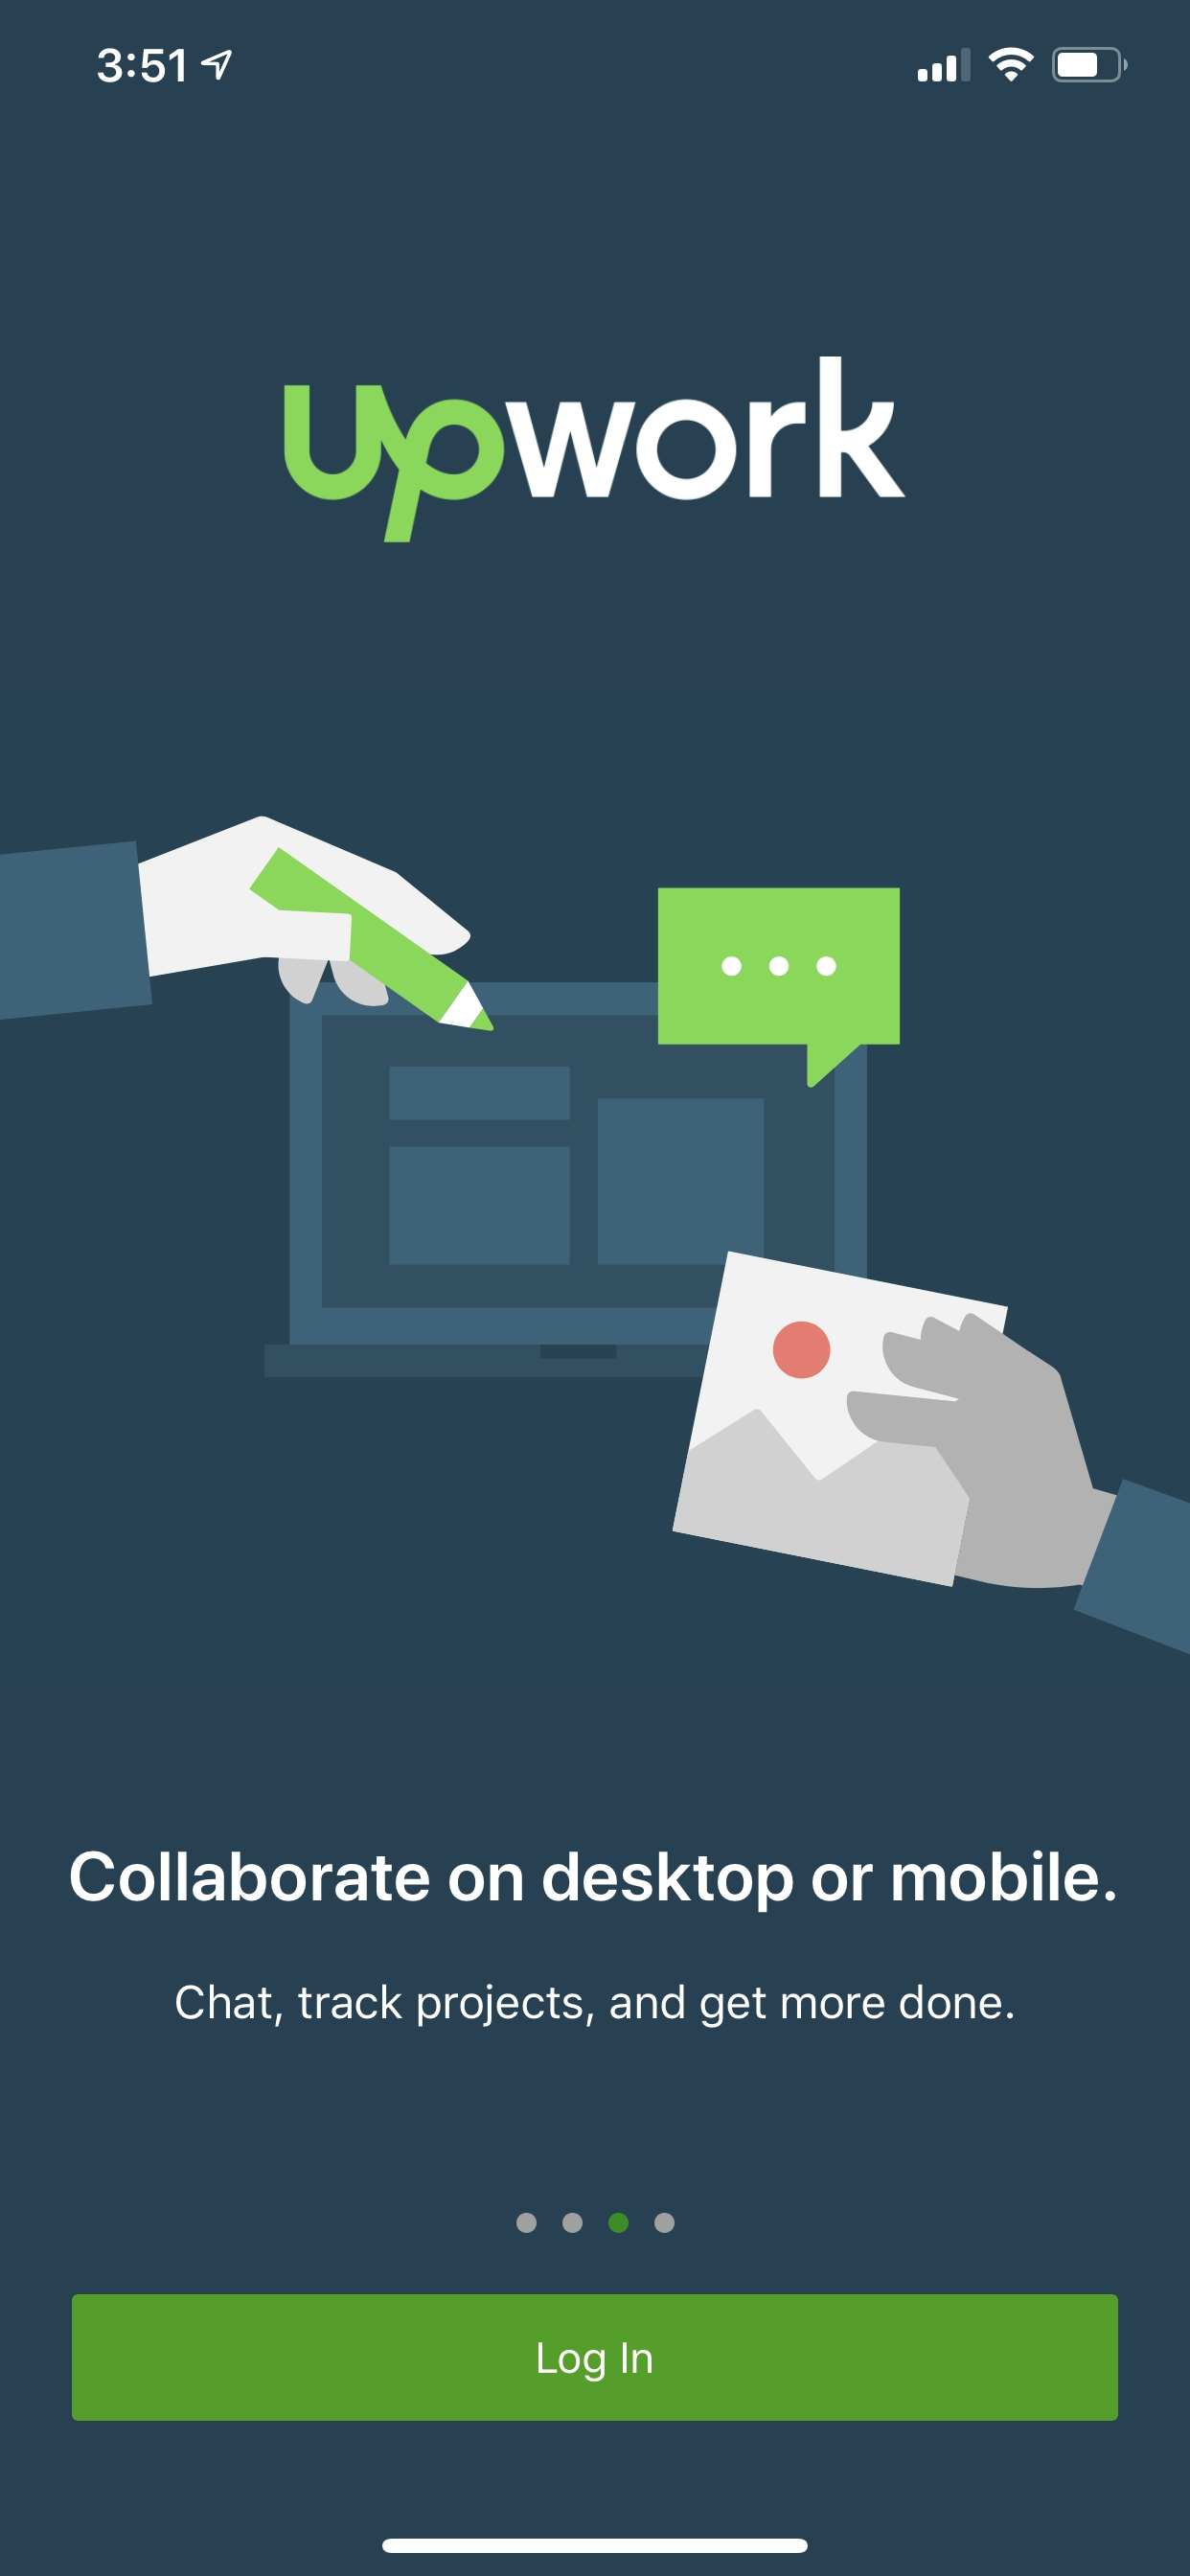Image: (2, 815, 1188, 1656), (284, 356, 906, 544)
PageIndicator: (516, 2211, 674, 2233)
Text: (71, 1848, 1116, 1912), (176, 1983, 1012, 2027)
TextButton: (71, 2293, 1119, 2422)
UpperTaskBar: (97, 48, 1128, 84)
